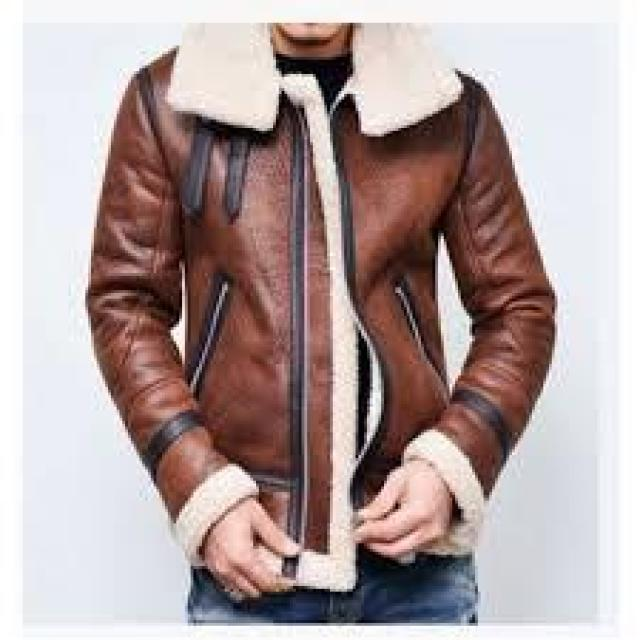jacket: (80, 23, 554, 563)
